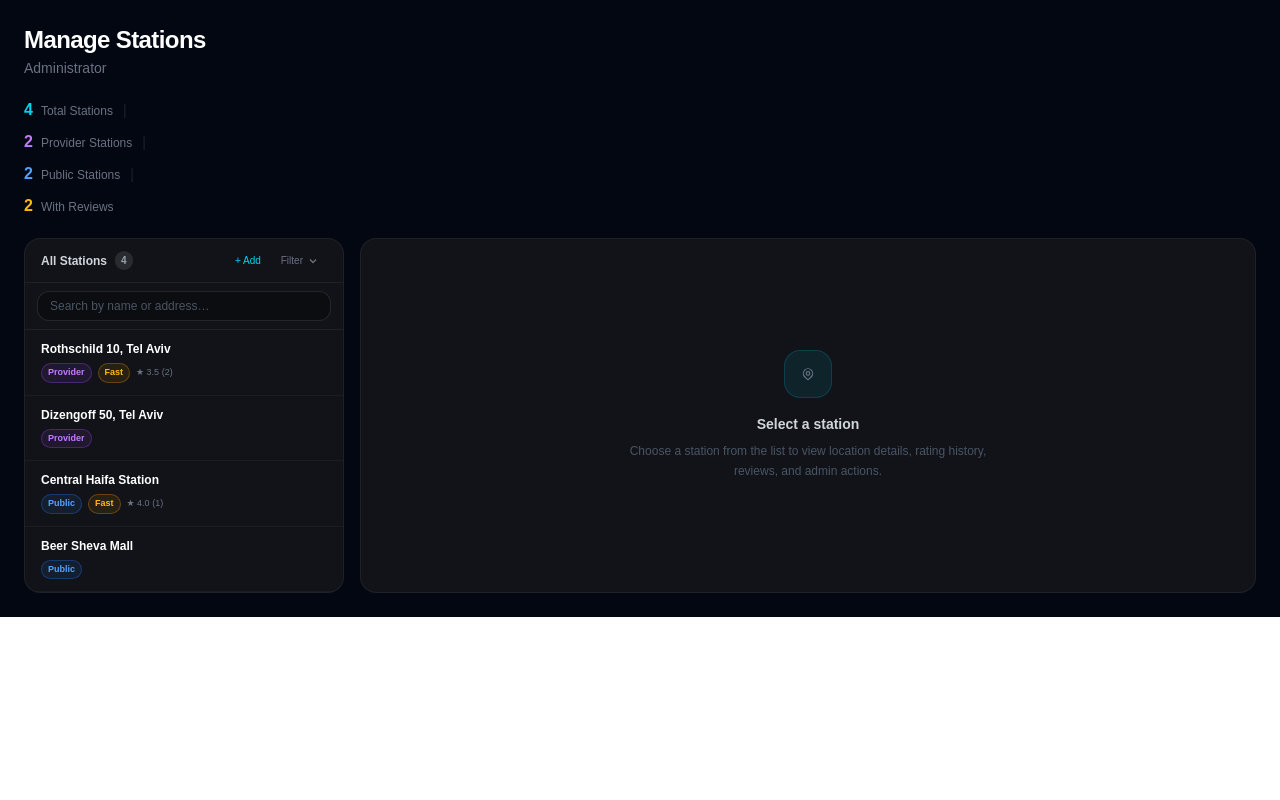
source filter › hides geo stations when "Public stations" is unchecked
Click the button "Filter" at [300, 260], box [273, 249, 327, 272]
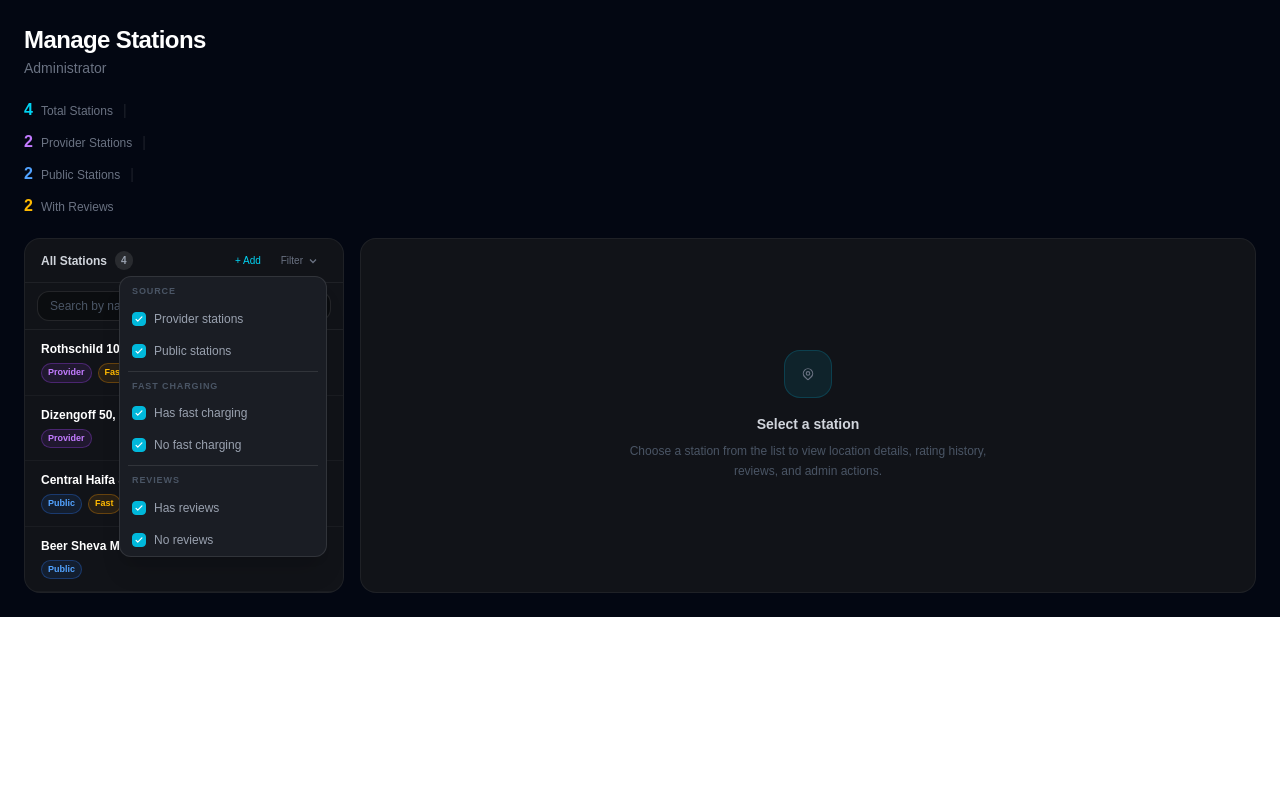
Click the button "Public stations" at [223, 350], box [120, 334, 326, 366]
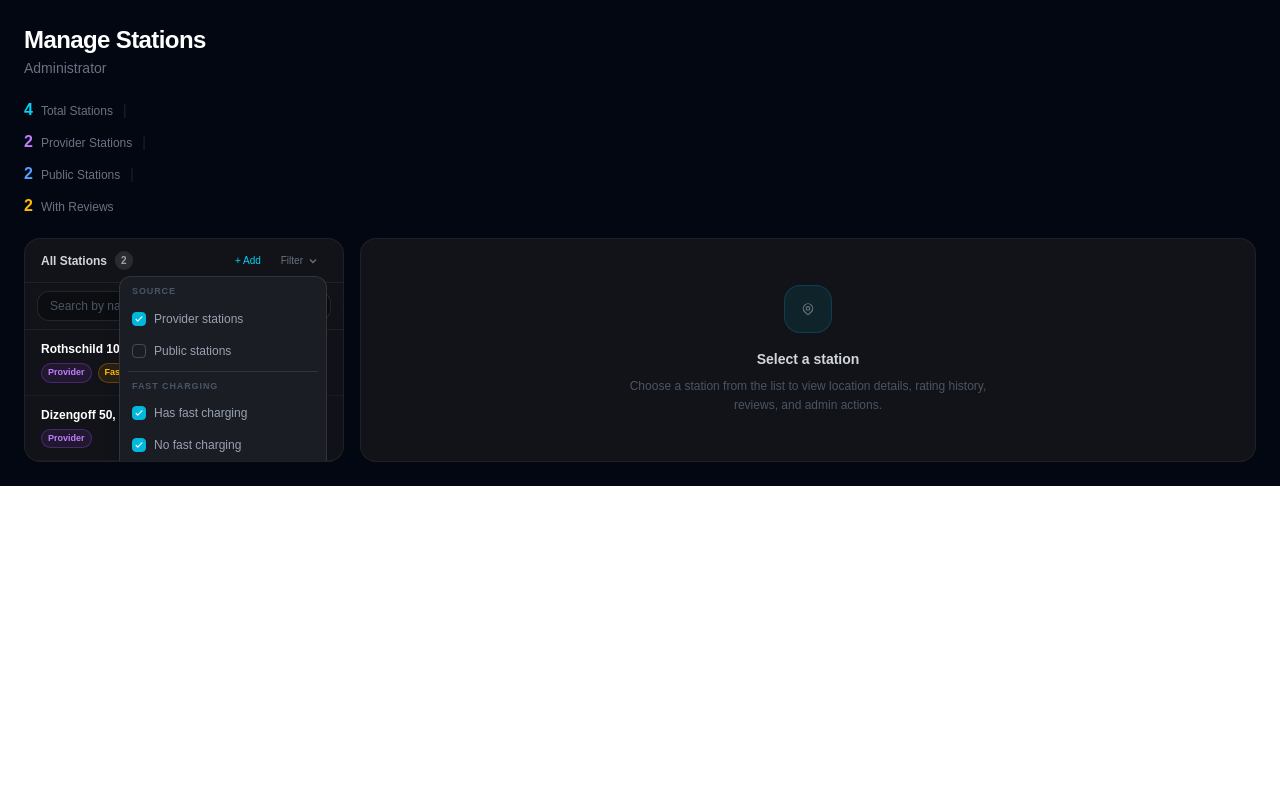
Expected: the button "Central Haifa Station" is gone
Expected: the button "Beer Sheva Mall" is gone
